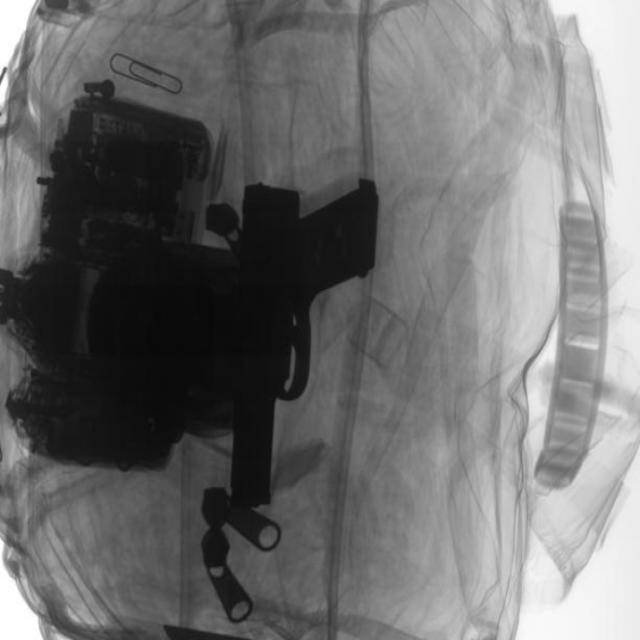GUN: (229, 162, 381, 512)
